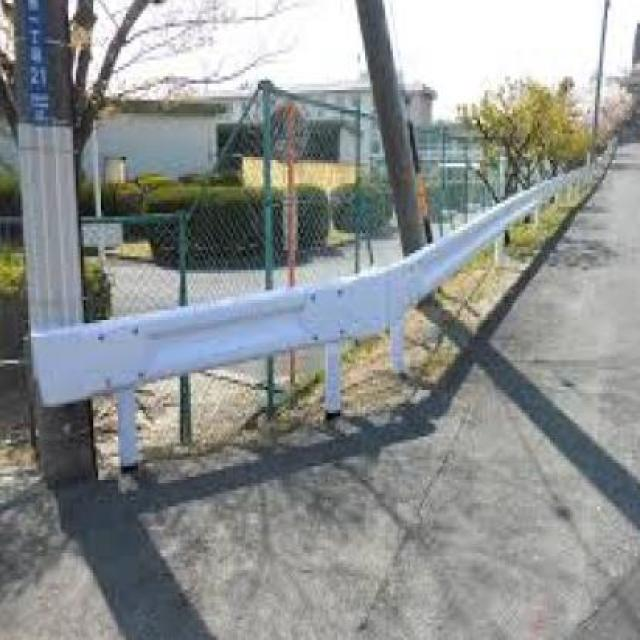Guard rail: (27, 155, 596, 496)
